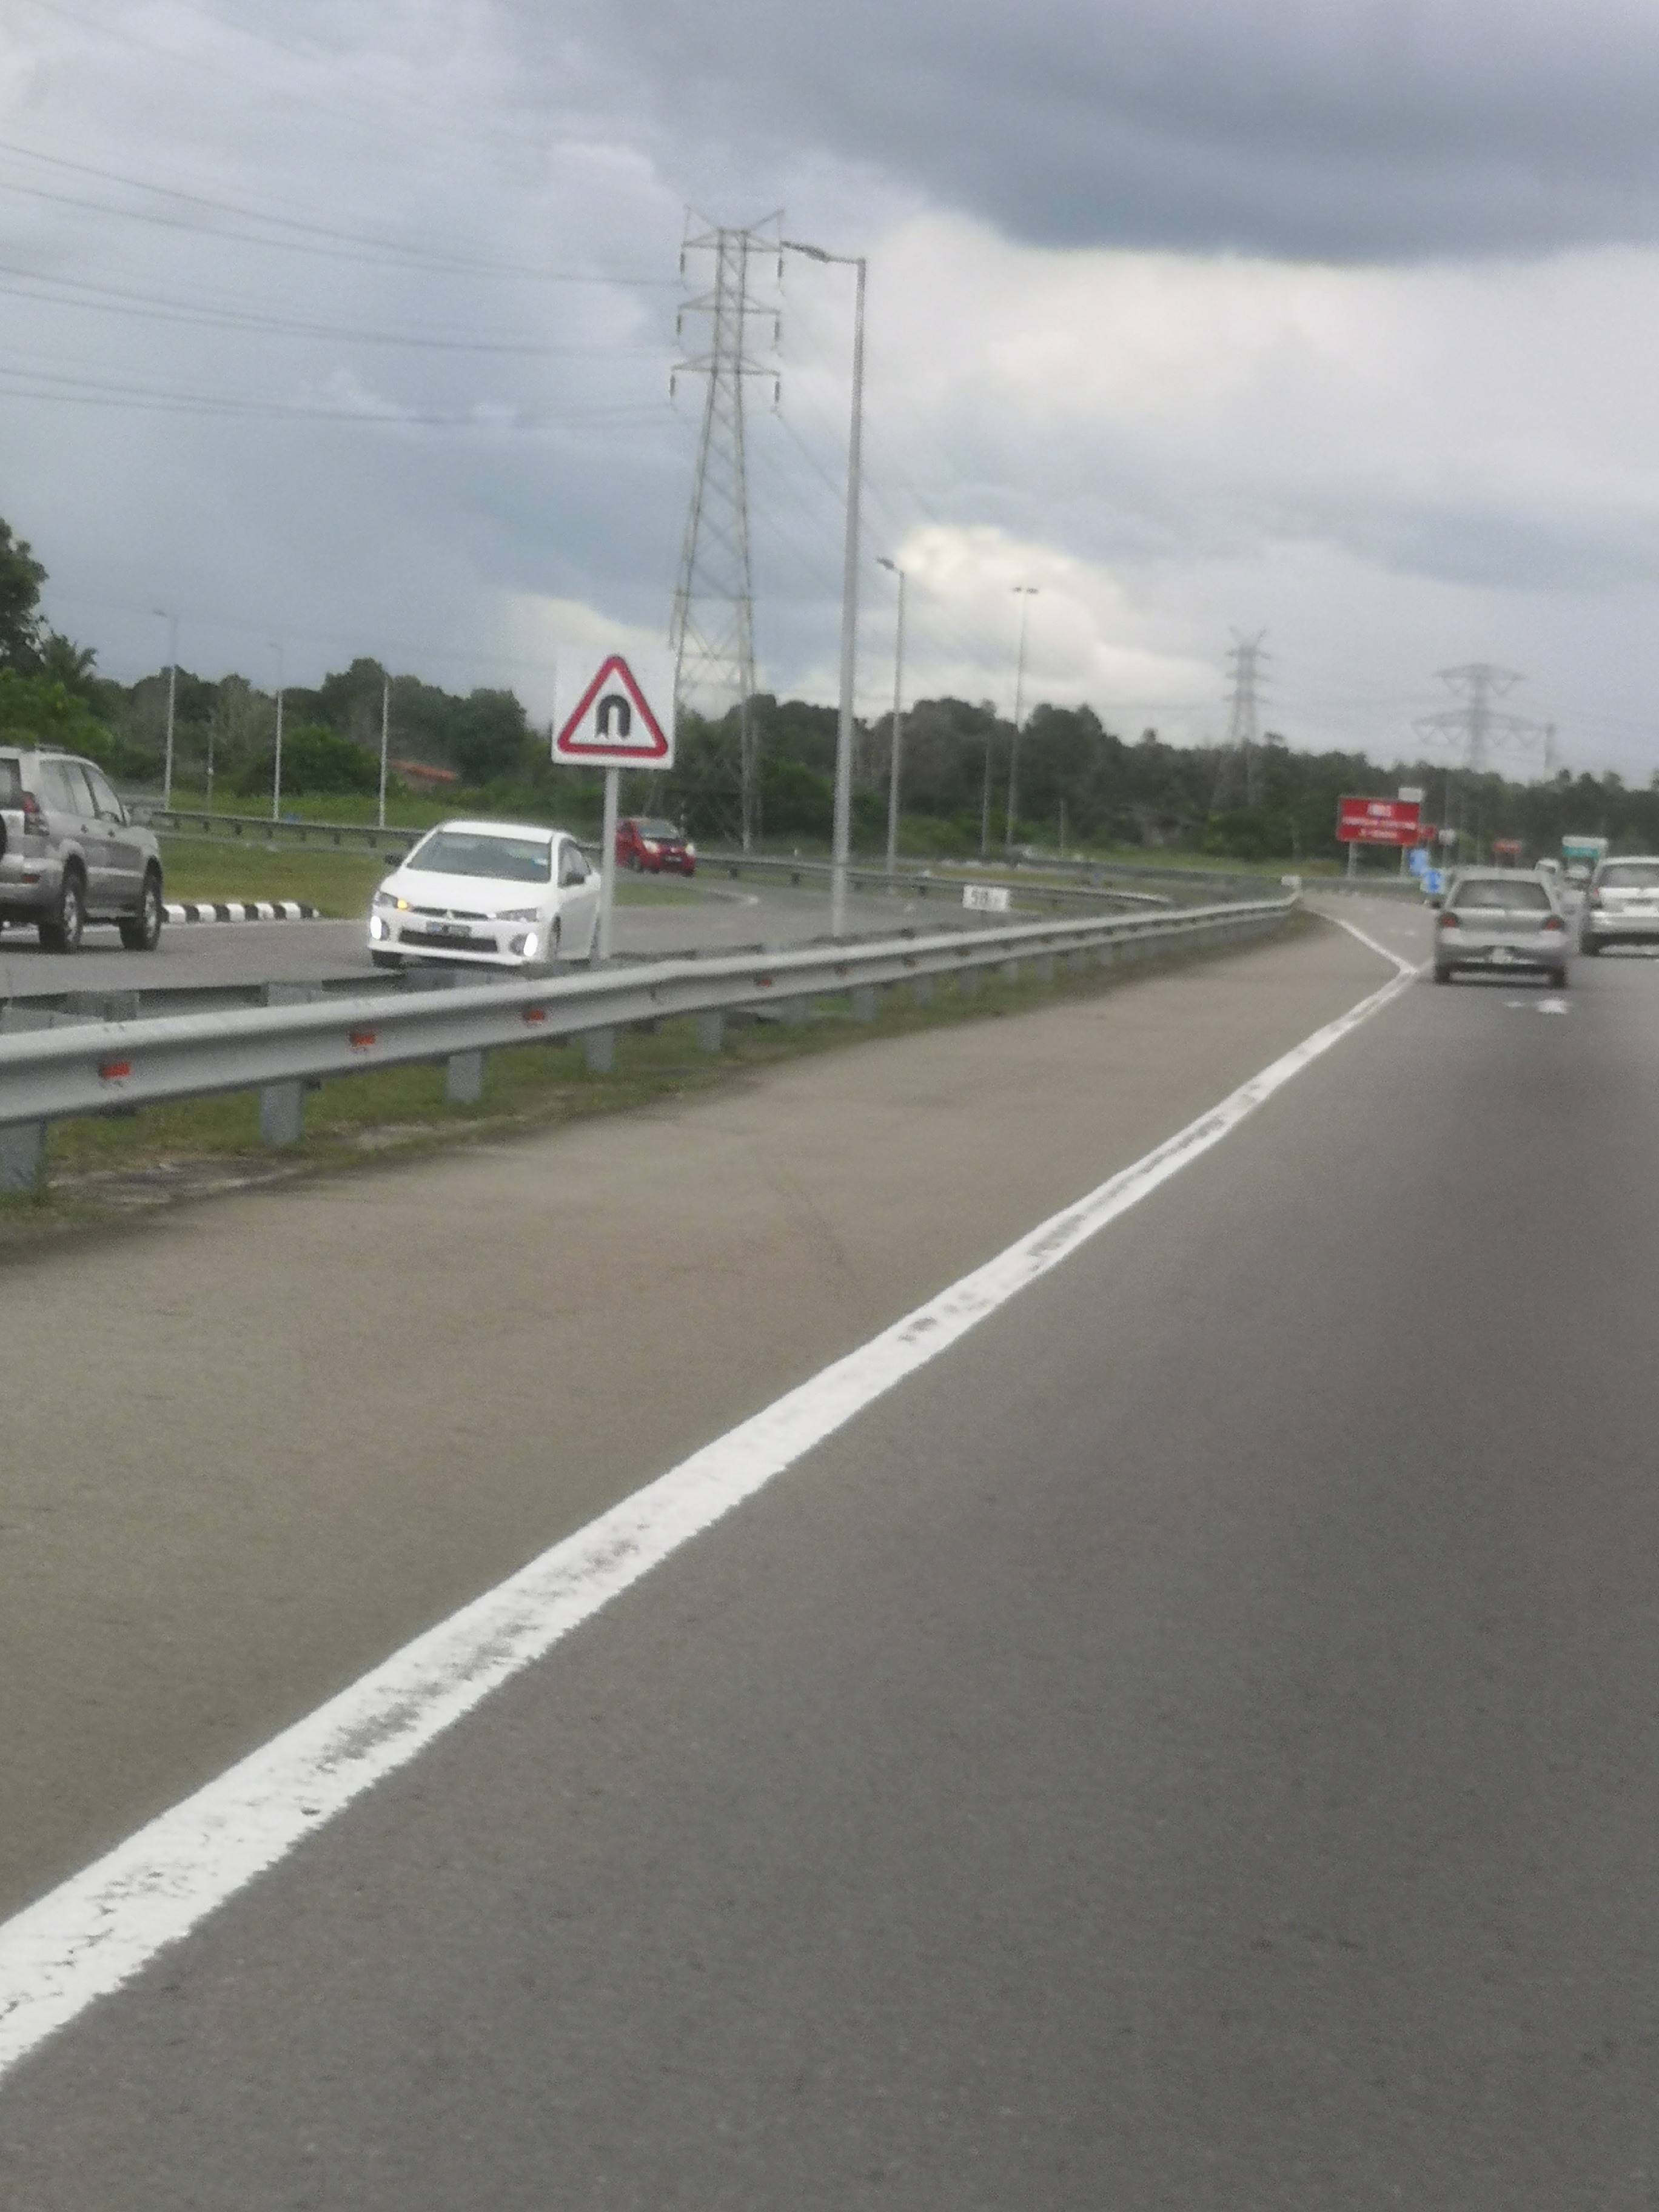U-turn: (544, 641, 678, 766)
